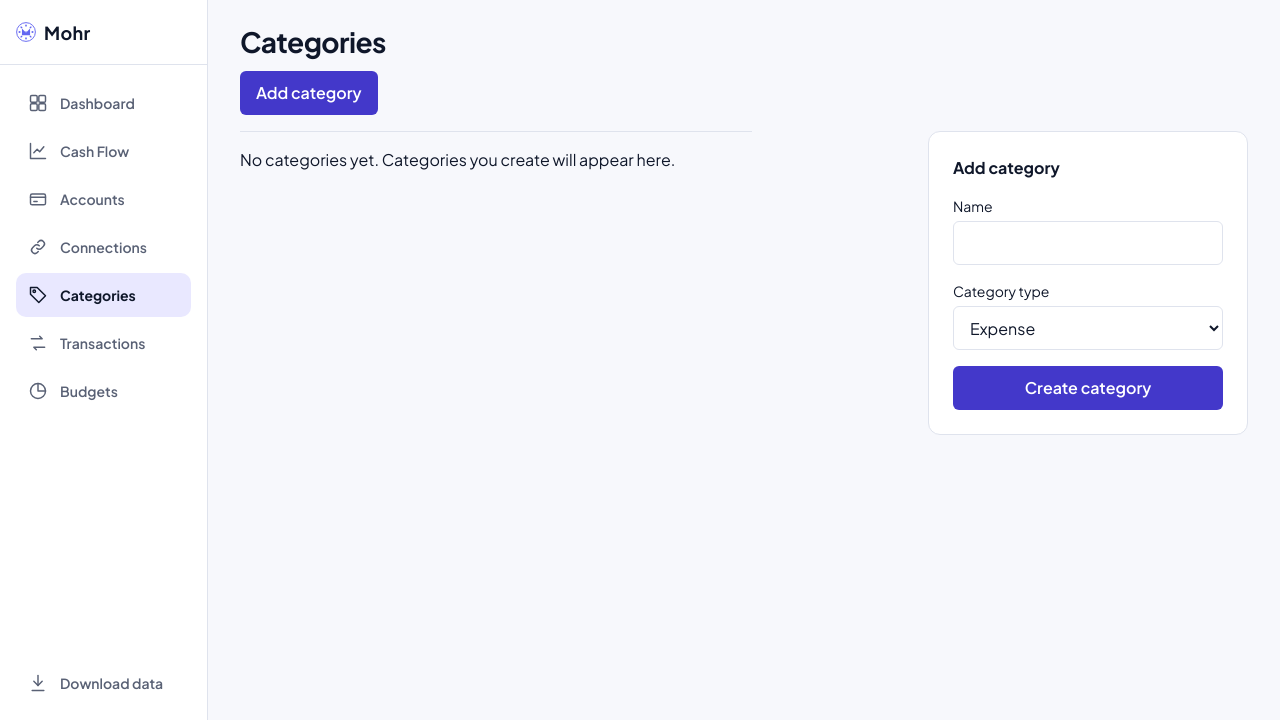
it: category creation form › creates with exact CSRF order and body, appends once, resets, and announces on an empty list
The image size is (1280, 720).
Expected: the text "No categories yet. Categories you create will appear here." is shown, [240, 131, 752, 172]
In the field labelled "Name": [1088, 243] box [953, 221, 1223, 265], type "Transport"
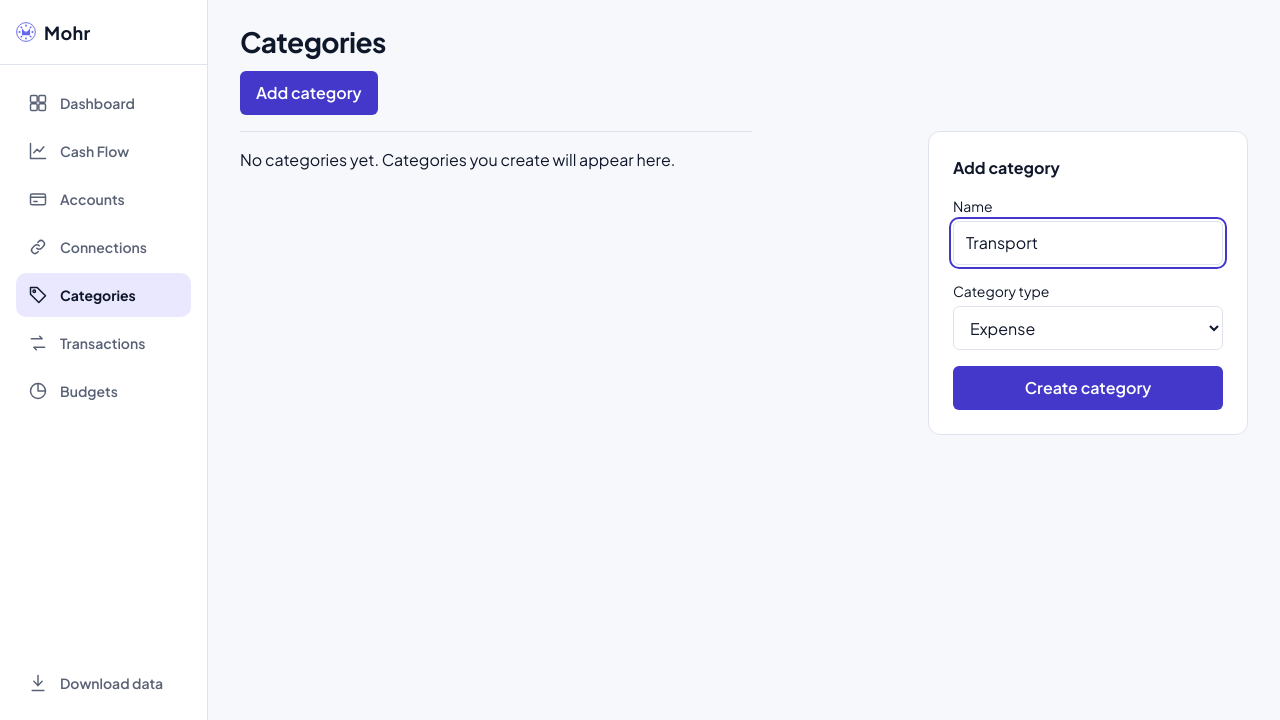
Select "Expense" in the dropdown labelled "Category type": [1088, 328] box [953, 306, 1223, 350]
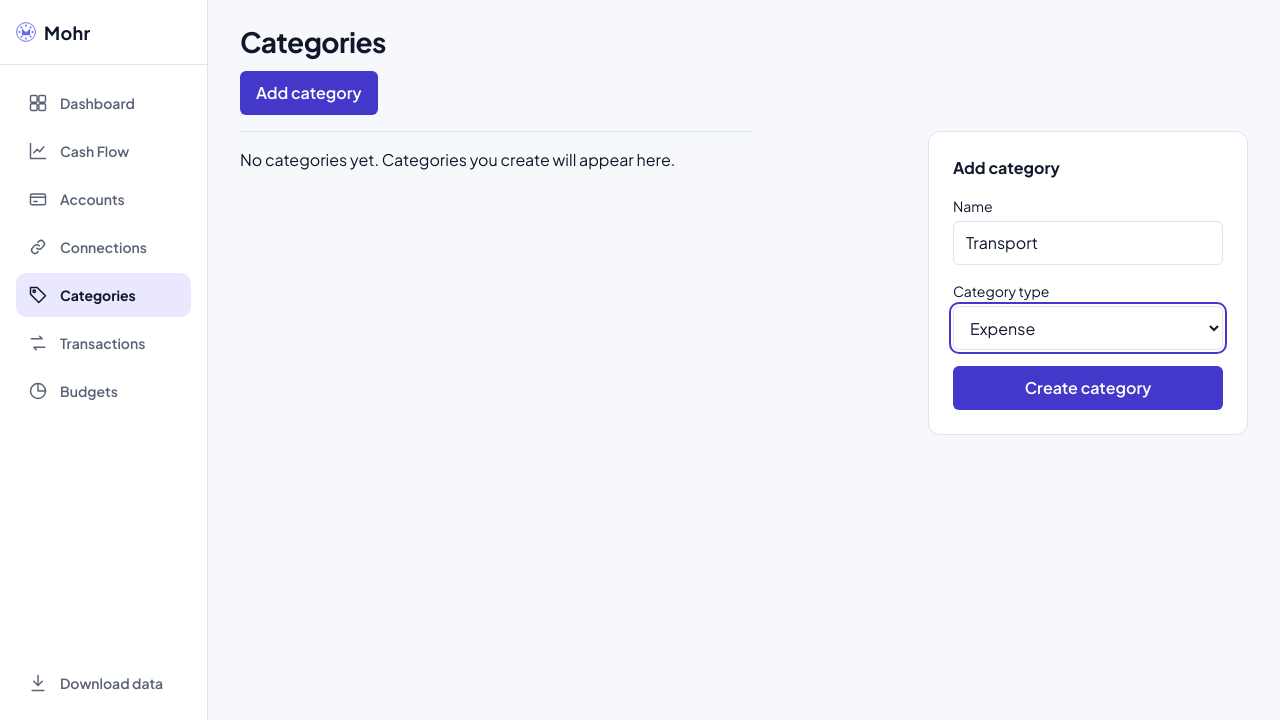
Click the button "Create category": [1088, 388] box [953, 366, 1223, 410]
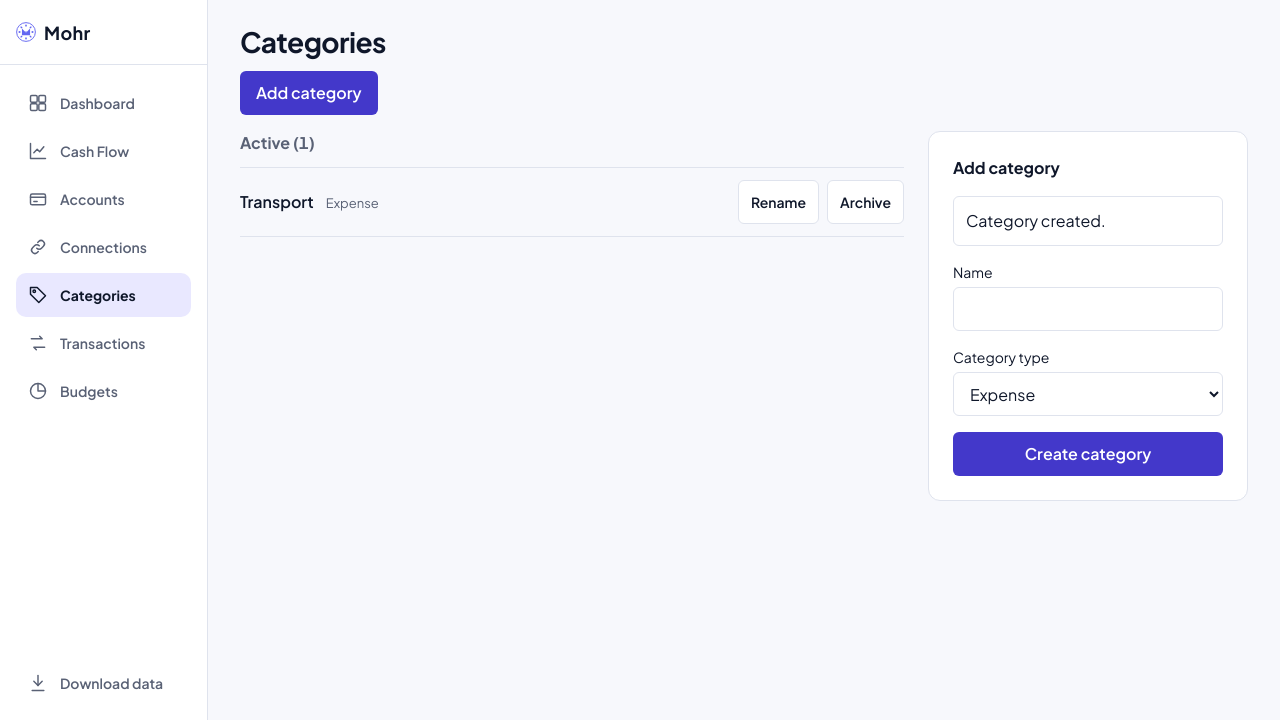
Result: the text "Category created." is shown at [953, 196, 1223, 246]
Result: the field labelled "Name" is empty at [953, 287, 1223, 331]
Result: the text "No categories yet" is gone
